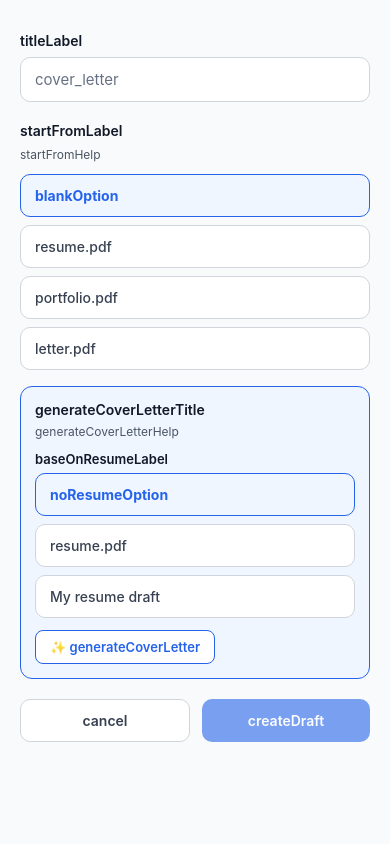
Test: NewDraftScreen — generating a cover letter (JEF-396) › shows why generation failed and stays on the screen
This screenshot has width=390, height=844.
Click the element with test id "generate-cover-letter-button" at (125, 647), box 35,630 -> 215,664
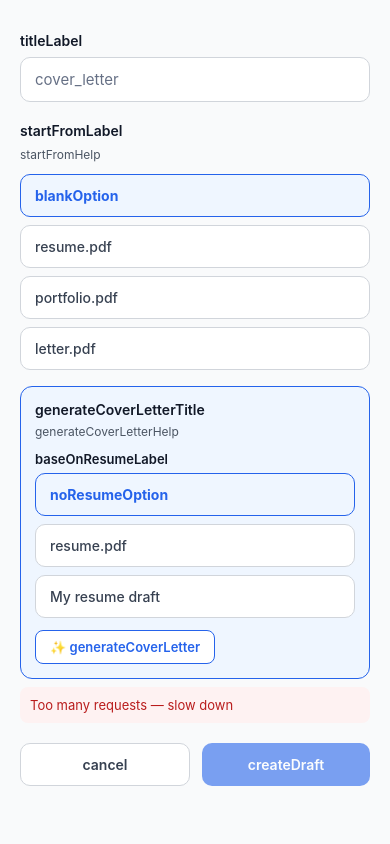
Result: the text "Too many requests — slow down" is shown at 20,687 -> 370,723
